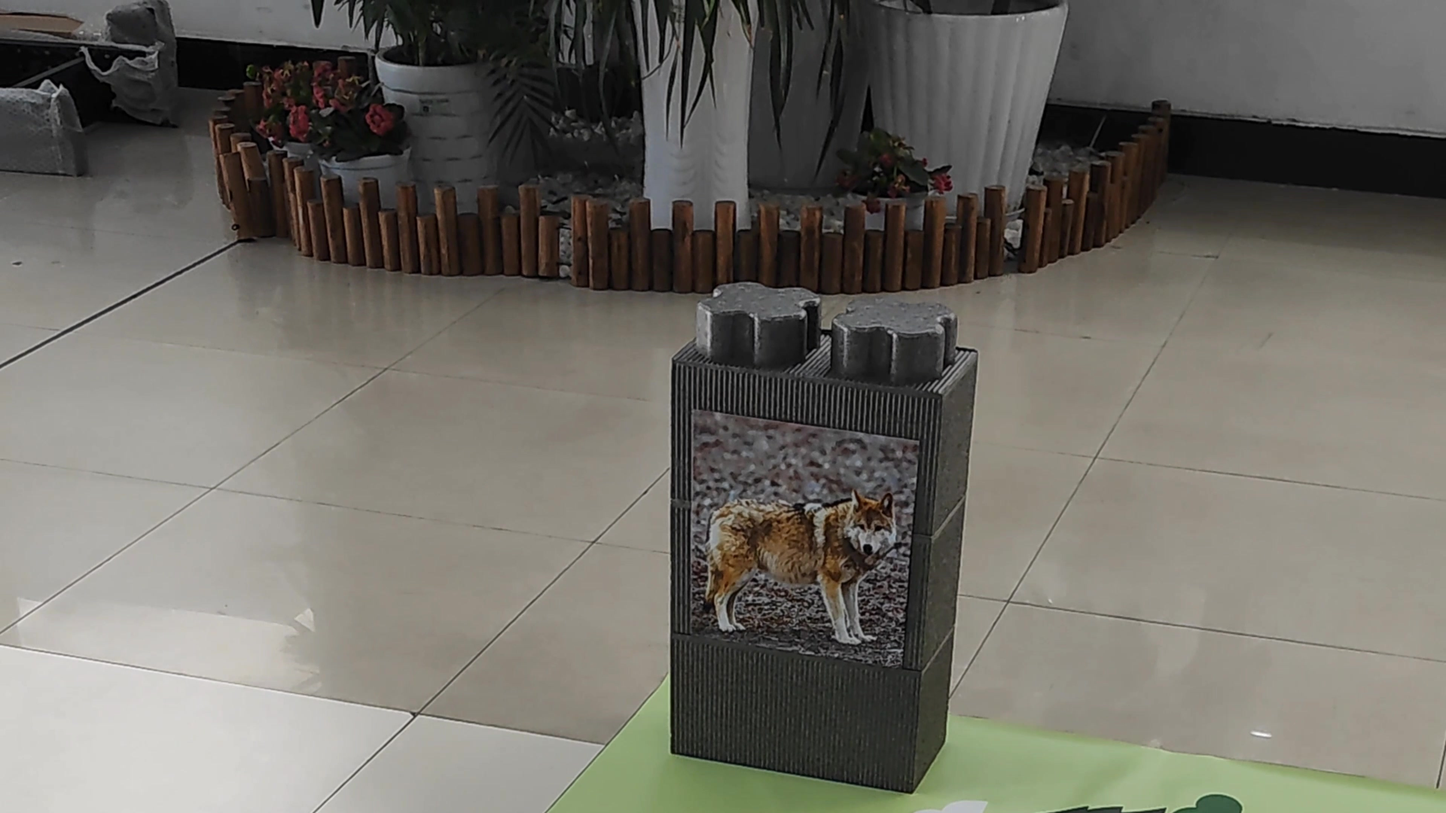wolf: (688, 437, 897, 657)
